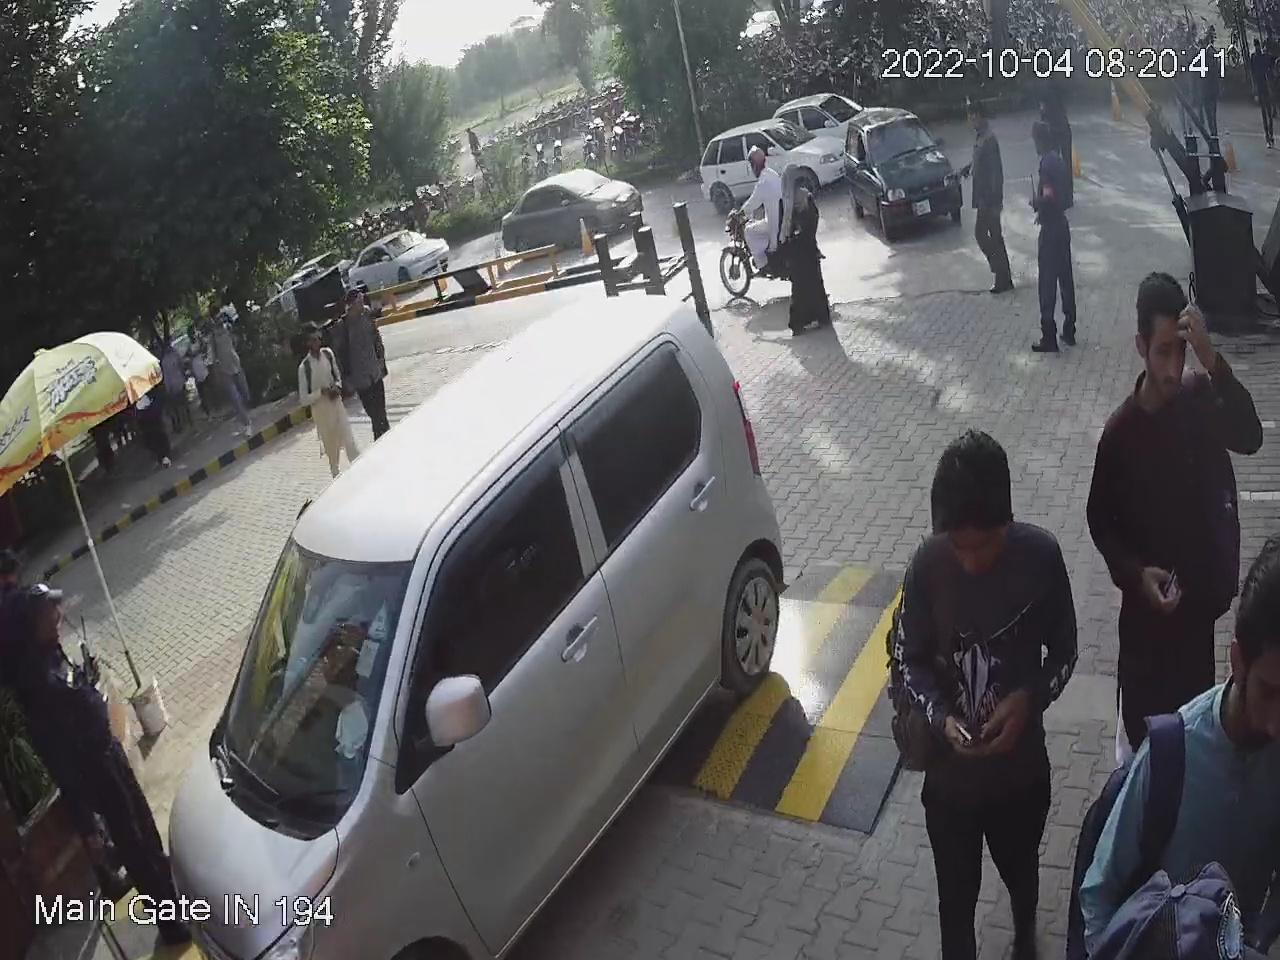windshield: (206, 525, 425, 825)
